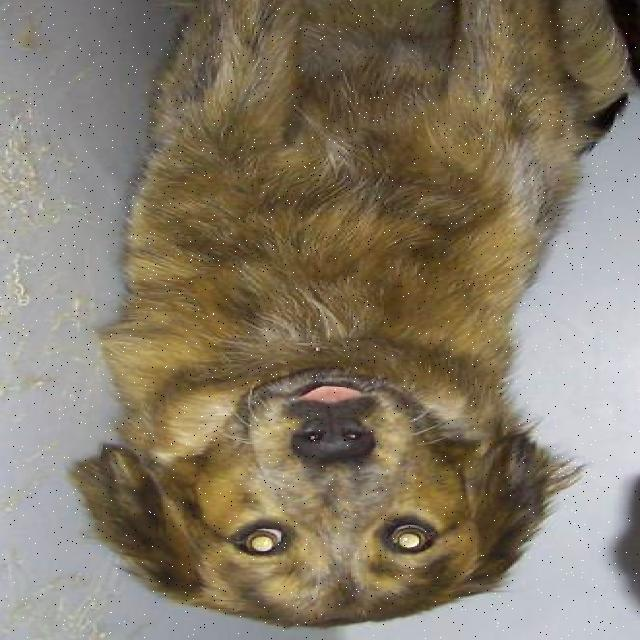Dog: (70, 346, 597, 636)
